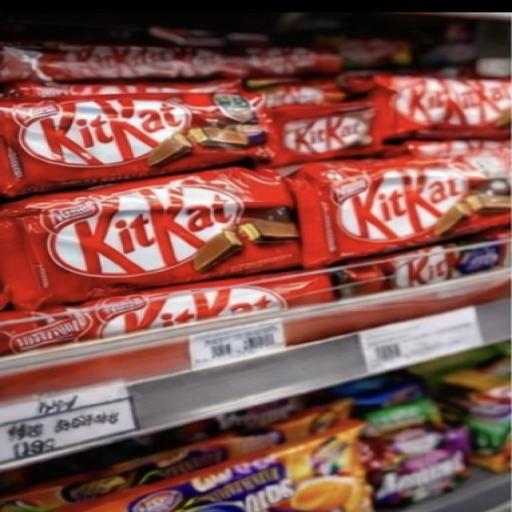kitkat: (6, 158, 332, 302), (321, 155, 512, 356), (0, 70, 271, 161)
